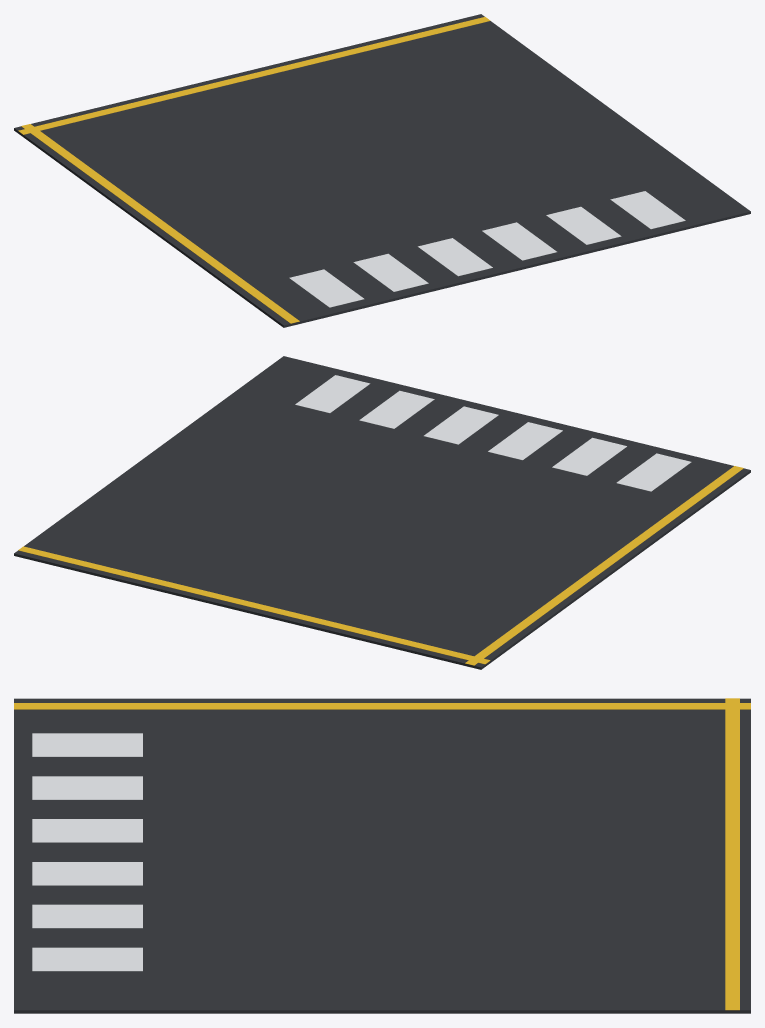
File: road_crossing_4m.glb
3 renders of one model, top to bottom at view 1: azimuth 30°, elevation 25°; view 2: azimuth 150°, elevation 25°; view 3: azimuth 270°, elevation 25°, orthographic. The views are drawn at different scales.
Parts seen in each view (by area): view 1: road_crossing_4m; view 2: road_crossing_4m; view 3: road_crossing_4m.
Part boxes in pixels (x1=…): road_crossing_4m: x1=14, y1=14, x2=750, y2=327; road_crossing_4m: x1=14, y1=356, x2=750, y2=669; road_crossing_4m: x1=14, y1=698, x2=750, y2=1013.
Bounding box in the file's own units: 4 × 0.022 × 4.
